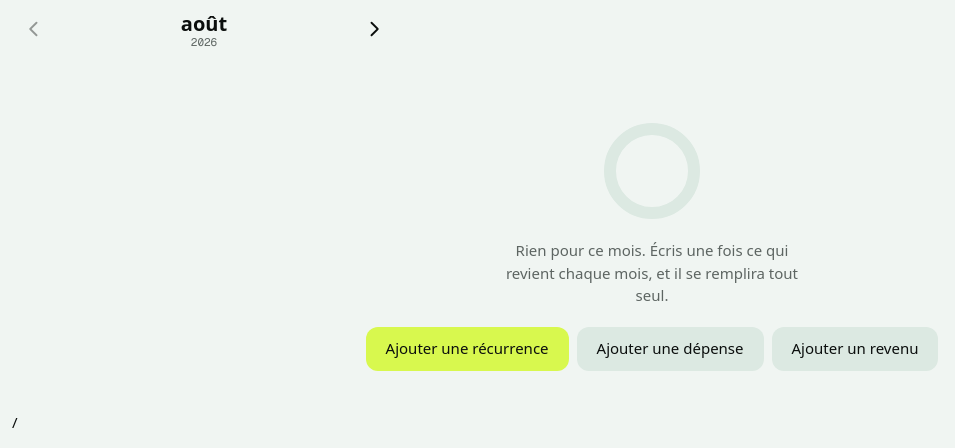
Test: MonthPage — l’état vide mène au bon geste › propose d’abord une récurrence tant qu’il n’y en a aucune
The width and height of the screenshot is (955, 448).
Check: the text "Rien pour ce mois. Écris une fois ce qui revient chaque mois, et il se remplira tout seul." is shown, box [506,240,798,305]
Click the button "Ajouter une récurrence" at point(467, 348), box [366,326,569,370]
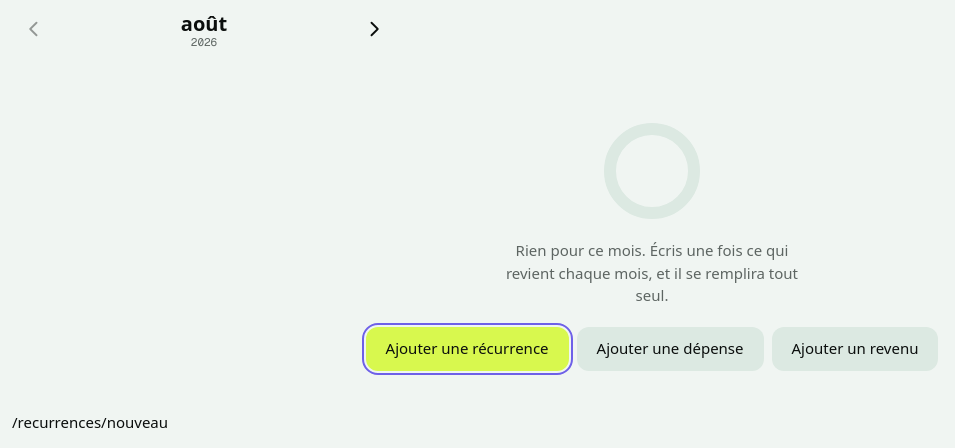
Check: the text with test id "url" reads "/recurrences/nouveau", box [12,412,168,432]
